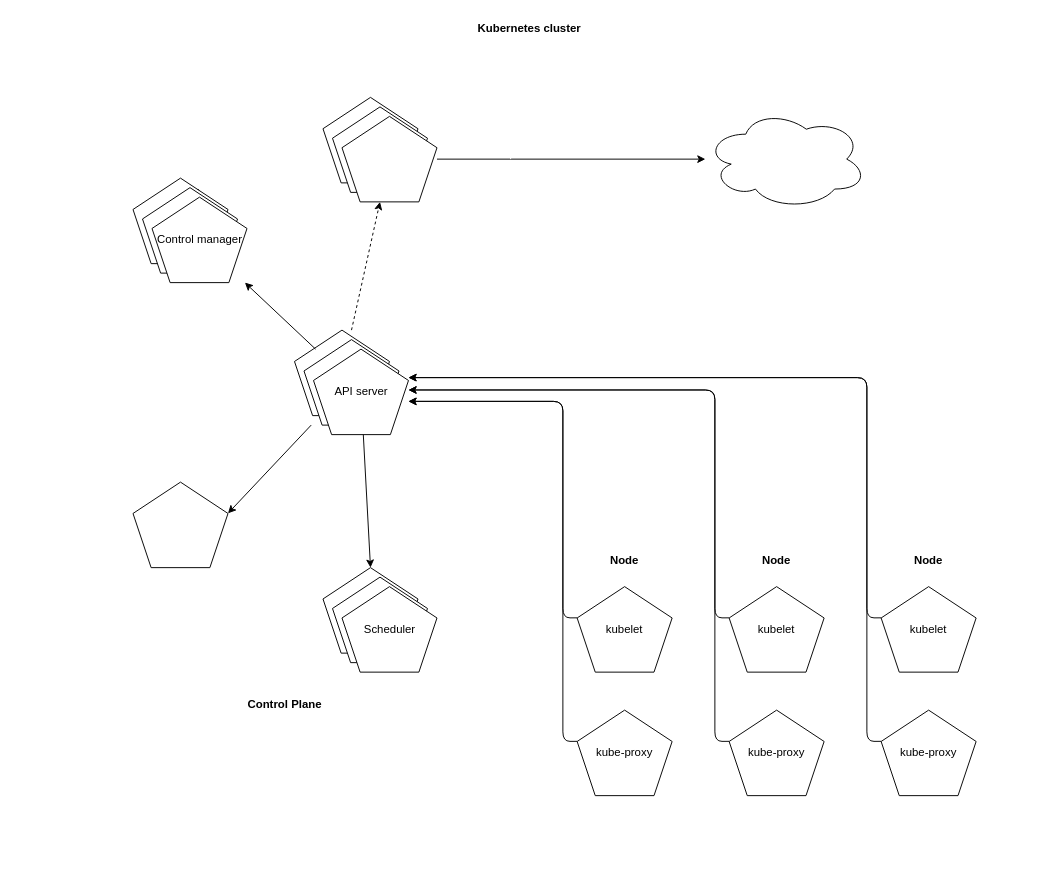
This 1059x879 diagram has some shape labels left out. Here are the shapes that lost their labels. From the top down, the centre of each, then its label:
the point at 389,158: Cloud control manager
the point at 785,158: Cloud provider API
the point at 180,524: etcd
